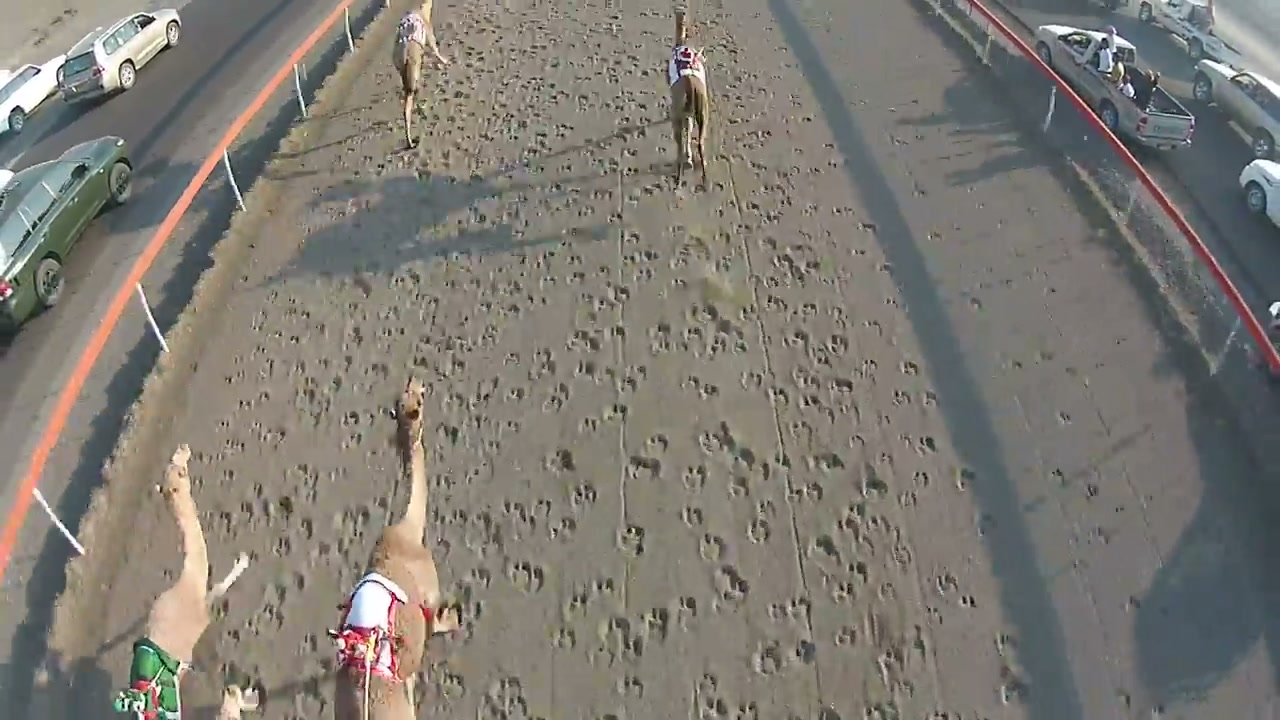animal_foot_print: (138, 0, 1061, 719)
